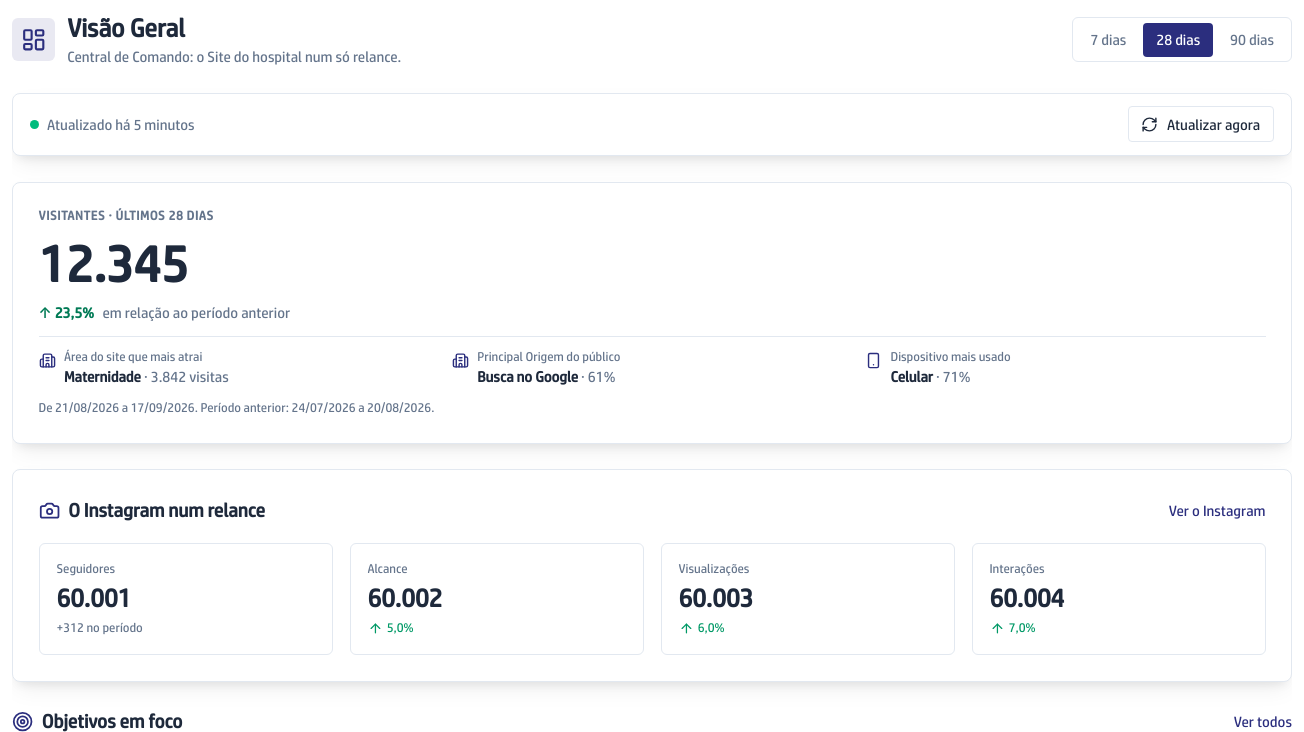
Test case: Visão Geral: o Atualizar agora › pede ao backend a renovação da tela e do período, e mostra o número novo com o carimbo novo
The width and height of the screenshot is (1304, 732).
Expected: the text "12.345" is shown, [38,234,188,293]
Click the button "Atualizar agora". click: (1201, 124)
box: [1128,106,1274,142]
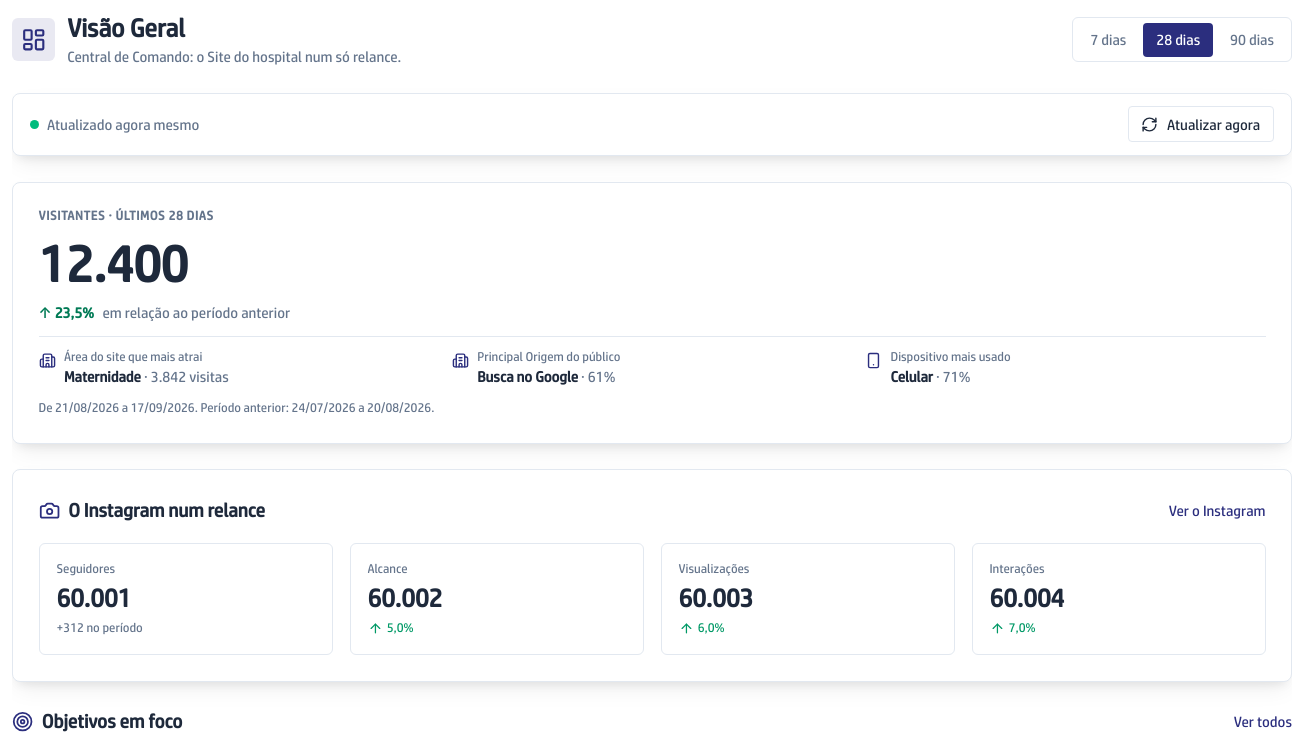
Now the text "12.400" is shown, box [38,234,188,293]
Now the text "Atualizado agora mesmo" is shown, box [30,114,199,135]
